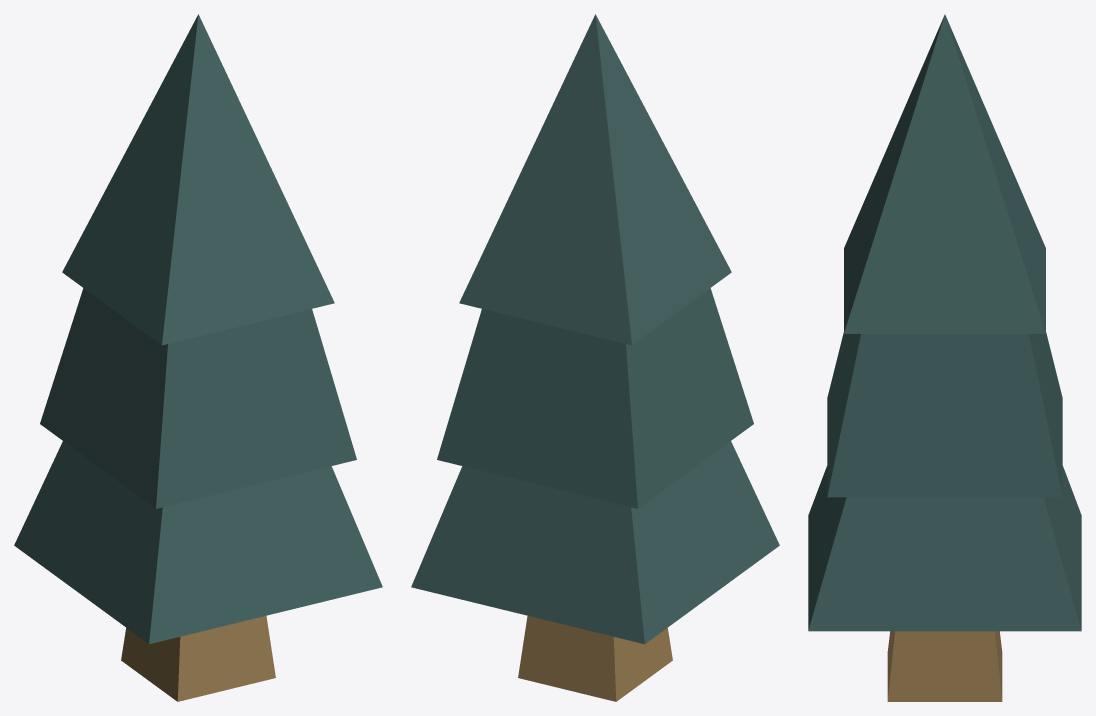
File: Tree_02.obj
The picture shows the model from 3 angles, left to right: view 1: azimuth 30°, elevation 25°; view 2: azimuth 150°, elevation 25°; view 3: azimuth 270°, elevation 25°; orthographic projection.
Visible parts, largest first — view 1: Mesh1_Tree_Model.001; view 2: Mesh1_Tree_Model.001; view 3: Mesh1_Tree_Model.001.
Part boxes in pixels (x1=…): Mesh1_Tree_Model.001: x1=14, y1=14, x2=382, y2=701; Mesh1_Tree_Model.001: x1=411, y1=14, x2=779, y2=701; Mesh1_Tree_Model.001: x1=808, y1=14, x2=1081, y2=701.
Bounding box in the file's own units: 1.18 × 3.16 × 1.18.
